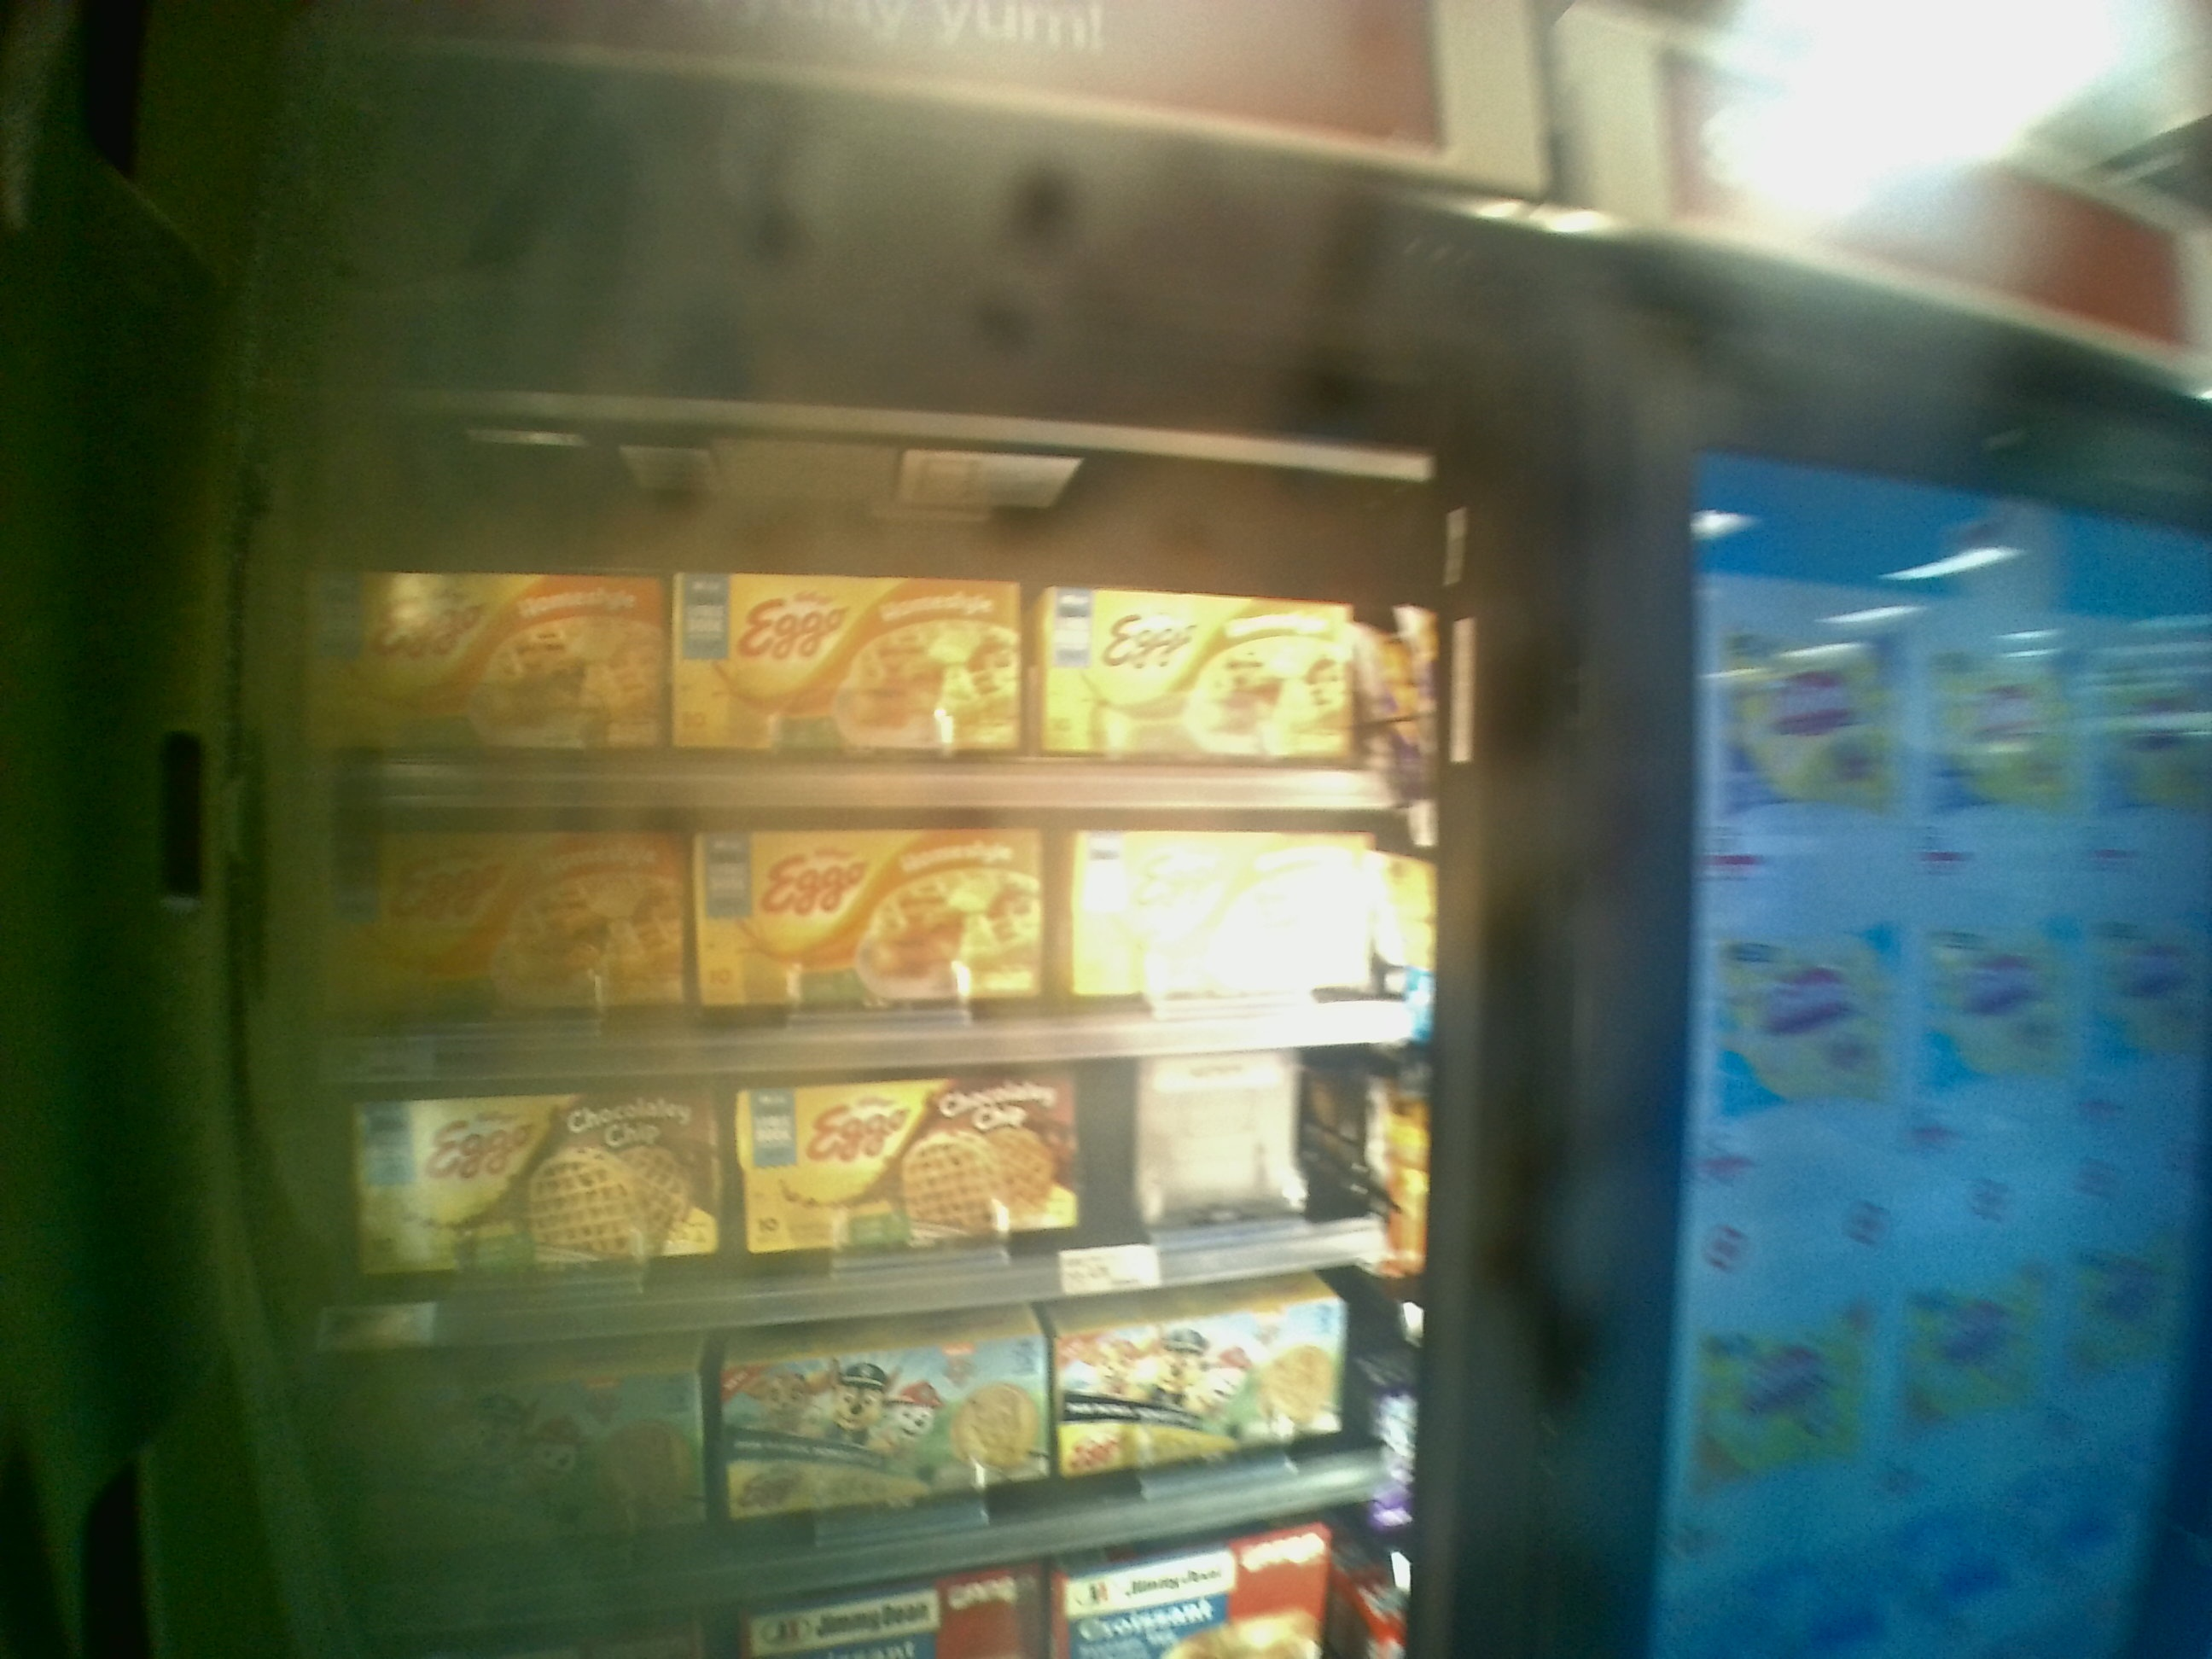shelf: (294, 490, 1420, 803), (296, 1068, 1425, 1345), (291, 798, 1446, 1065)
